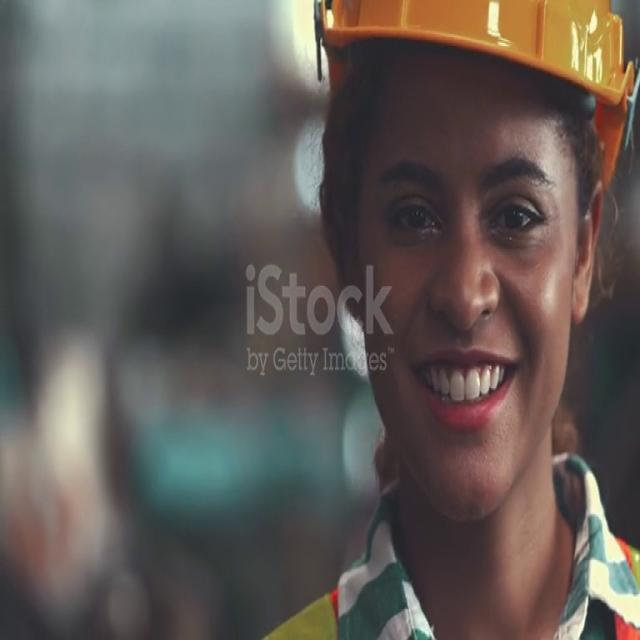capacete: (304, 0, 635, 199)
